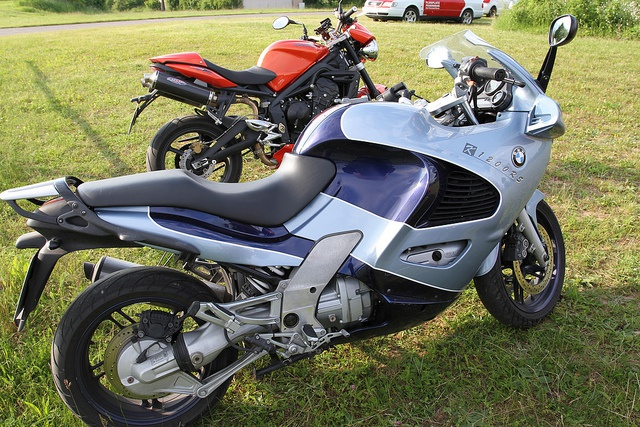non-vehicle: (0, 14, 576, 418), (128, 4, 385, 175)
